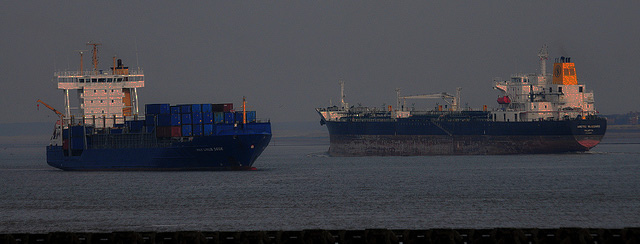container_ship: (40, 50, 268, 170)
tanker: (312, 43, 611, 156)
